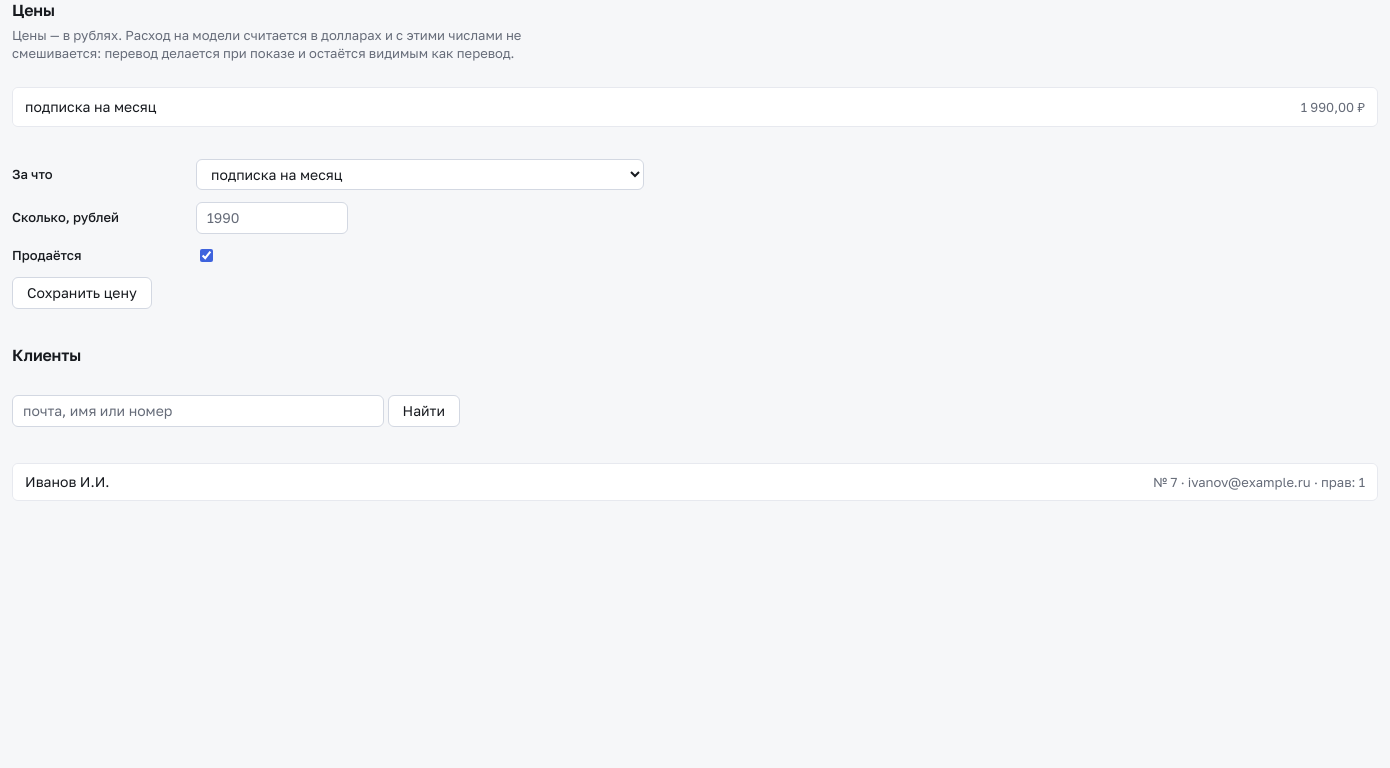
Test: продажи › клиент находится и открывается карточкой
Step 1. Click the text "Иванов И.И." → (67,482), box x1=25 y1=472 x2=110 y2=492
(page scrolled)
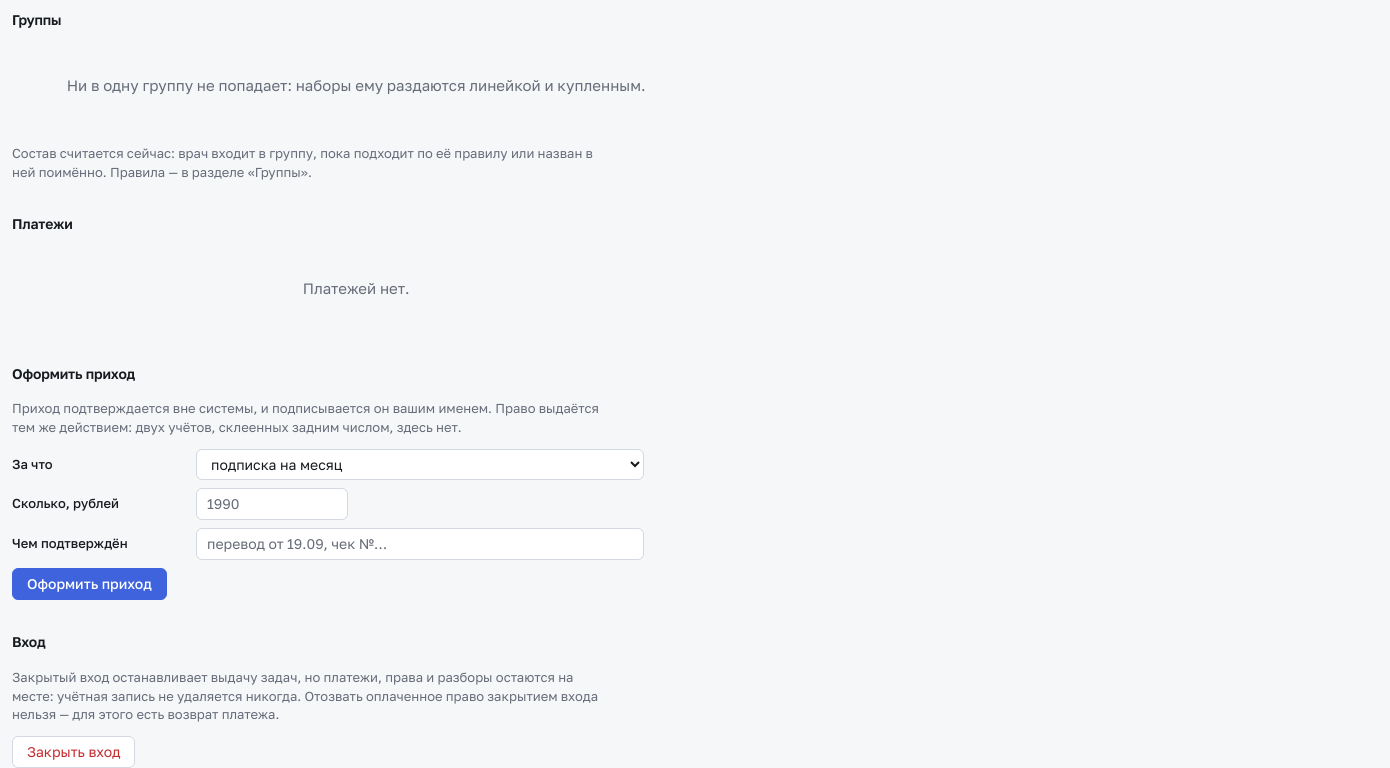
Result: the button "Оформить приход" is shown at x1=12 y1=568 x2=167 y2=600
